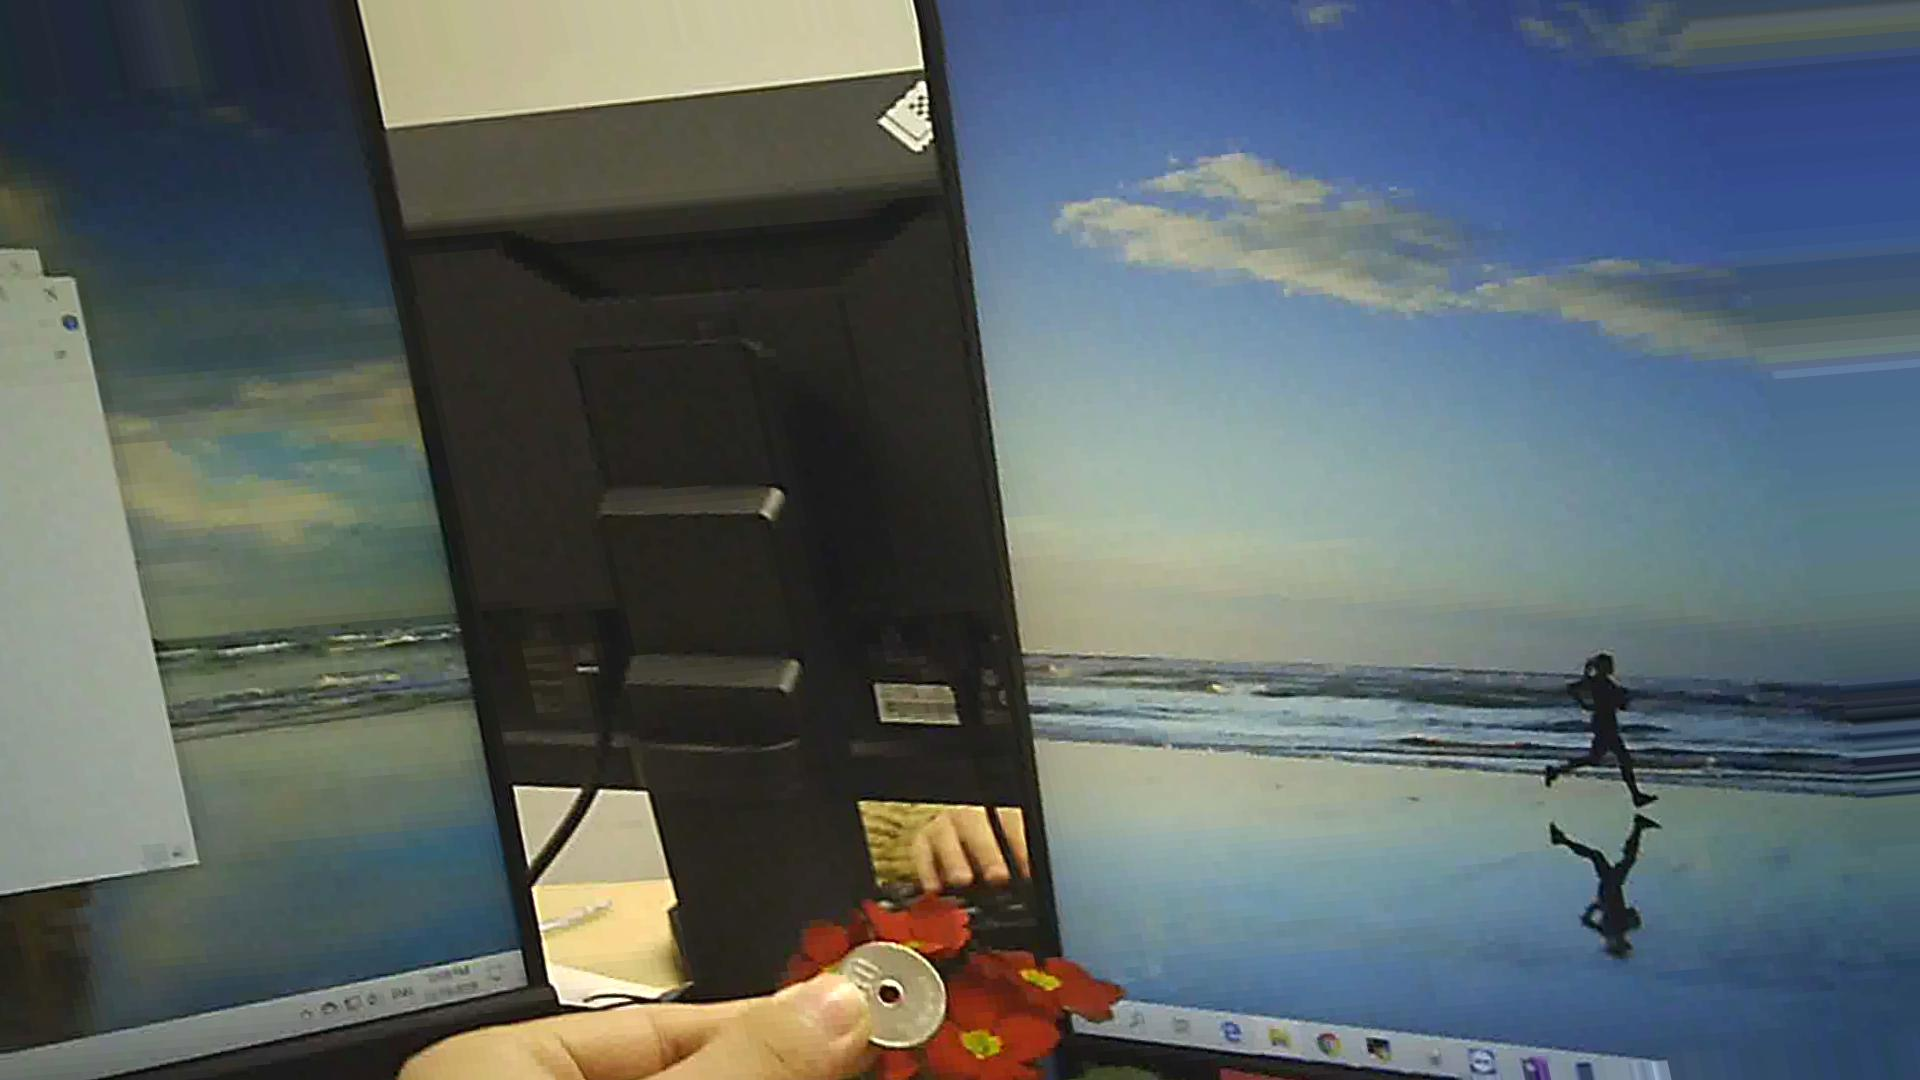50 Yen: (827, 936, 955, 1056)
